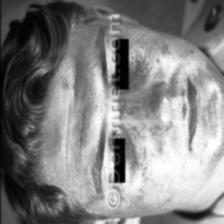Unclassified: (132, 104, 156, 182), (136, 38, 160, 86)
